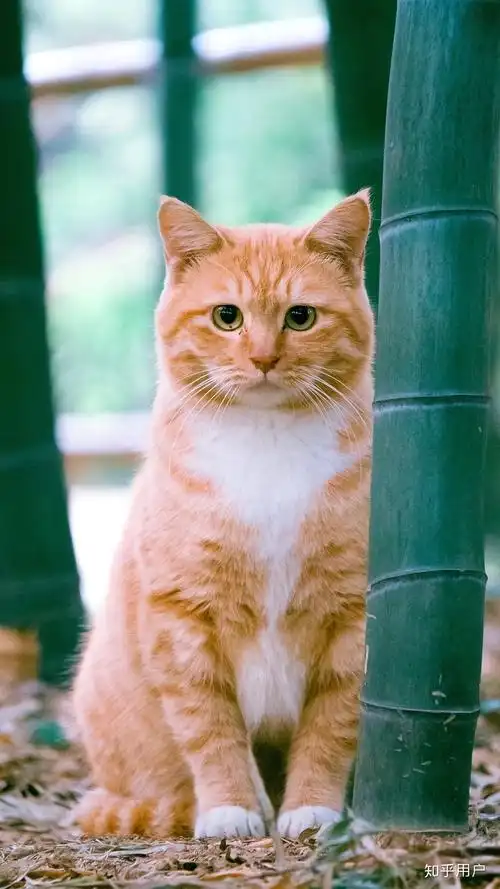橘猫: (65, 190, 362, 612)
